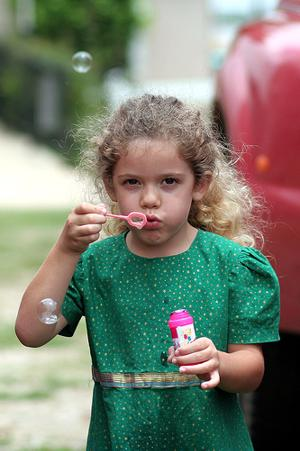person: (15, 95, 281, 448)
